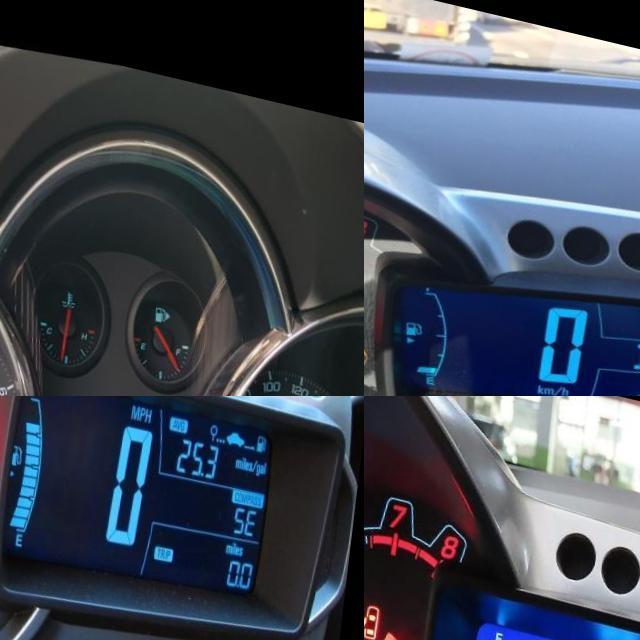Doors: (364, 600, 386, 638)
